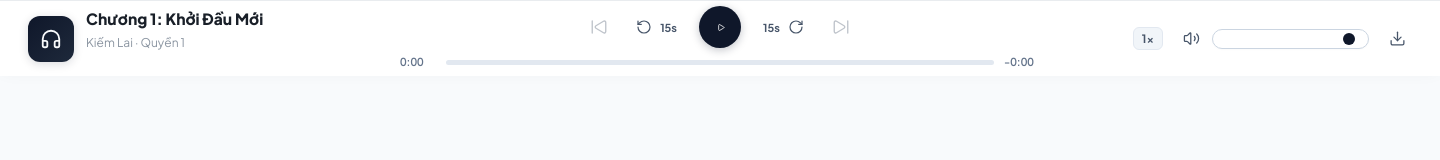
Test: AudioPlayerCard — Persistent Bottom Player › chuyển đổi tốc độ phát playback speed khi bấm nút speed
Click the button "1x" at (1148, 38), box [1133,27,1163,50]
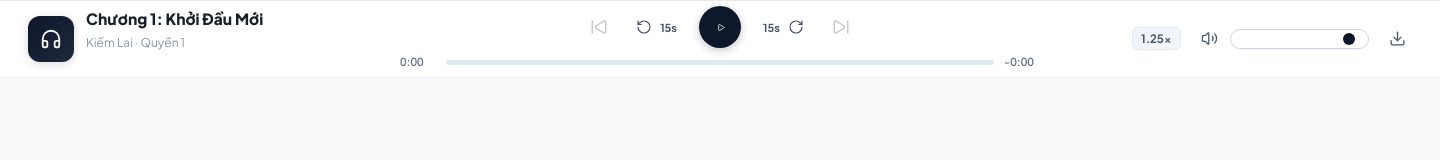
Expected: the button "1.25x" is shown
Click the button "1.25x" at (1156, 38), box [1132,27,1180,50]
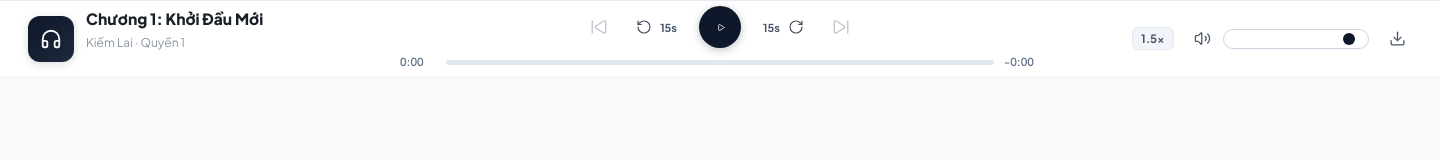
Expected: the button "1.5x" is shown
Click the button "1.5x" at (1153, 38), box [1132,27,1174,50]
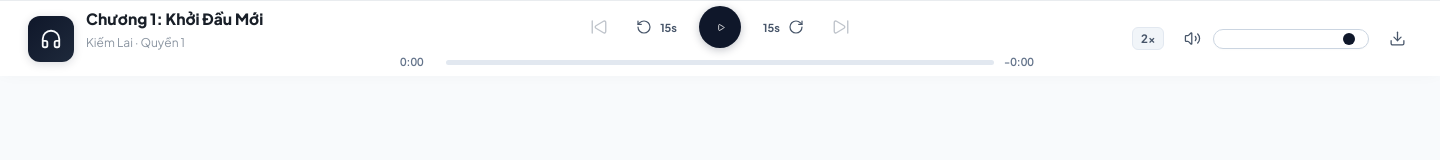
Expected: the button "2x" is shown
Click the button "2x" at (1148, 38), box [1132,27,1164,50]
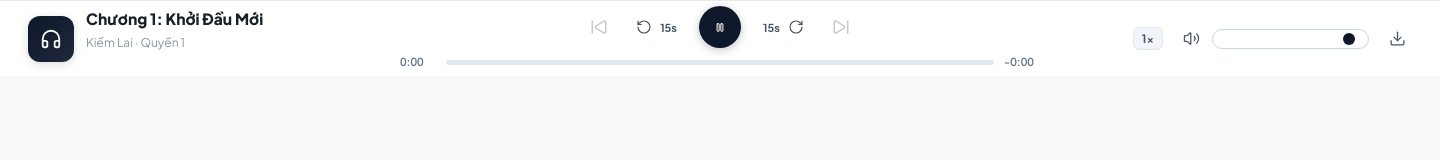
Expected: the button "1x" is shown, [1133,27,1163,50]
